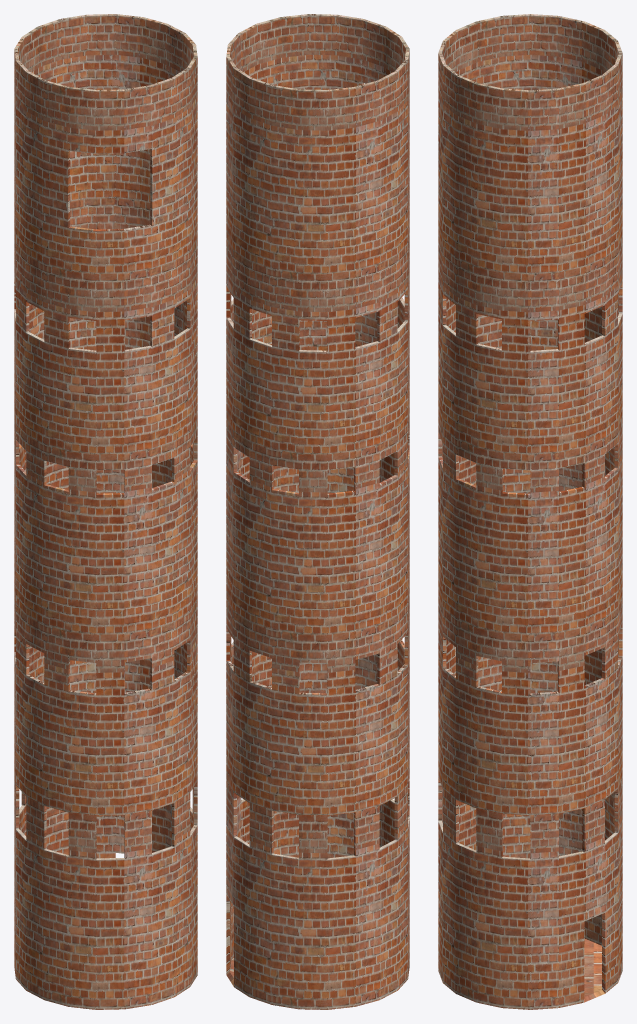
Rendered from tower2.fbx.
The picture shows the model from 3 angles, left to right: view 1: azimuth 30°, elevation 25°; view 2: azimuth 150°, elevation 25°; view 3: azimuth 270°, elevation 25°; orthographic projection.
Parts seen in each view (by area): view 1: pCylinder1; view 2: pCylinder1; view 3: pCylinder1.
Part boxes in pixels (box(x1,y1,x2,y2)): pCylinder1: box(14, 14, 197, 1009); pCylinder1: box(226, 14, 409, 1009); pCylinder1: box(438, 14, 622, 1009).
Size of the model in its own units: 10.55 by 58.03 by 10.55.
Materials: 1 (1 with a texture image).
